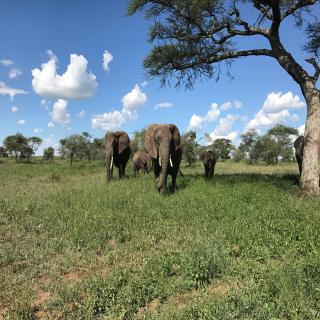Elephant: (144, 122, 186, 197), (103, 129, 132, 183), (200, 148, 220, 179), (131, 149, 153, 177)
